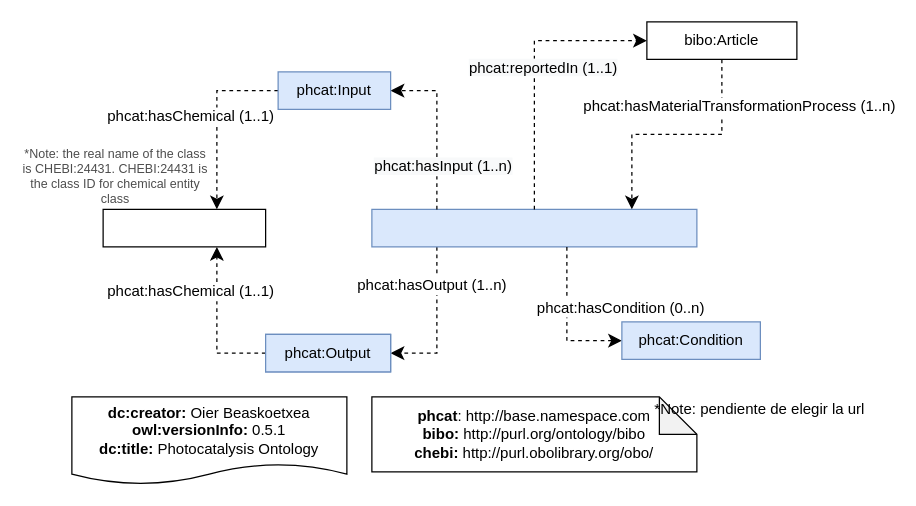
Some shapes in this 916 by 506 pixel diagram are drawn without their labels. The centre of each missing label's shape, as x and y in pixels:
chebi:ChemicalEntity: the point at 184,227
phcat:MaterialTransformationProcess: the point at 534,227
